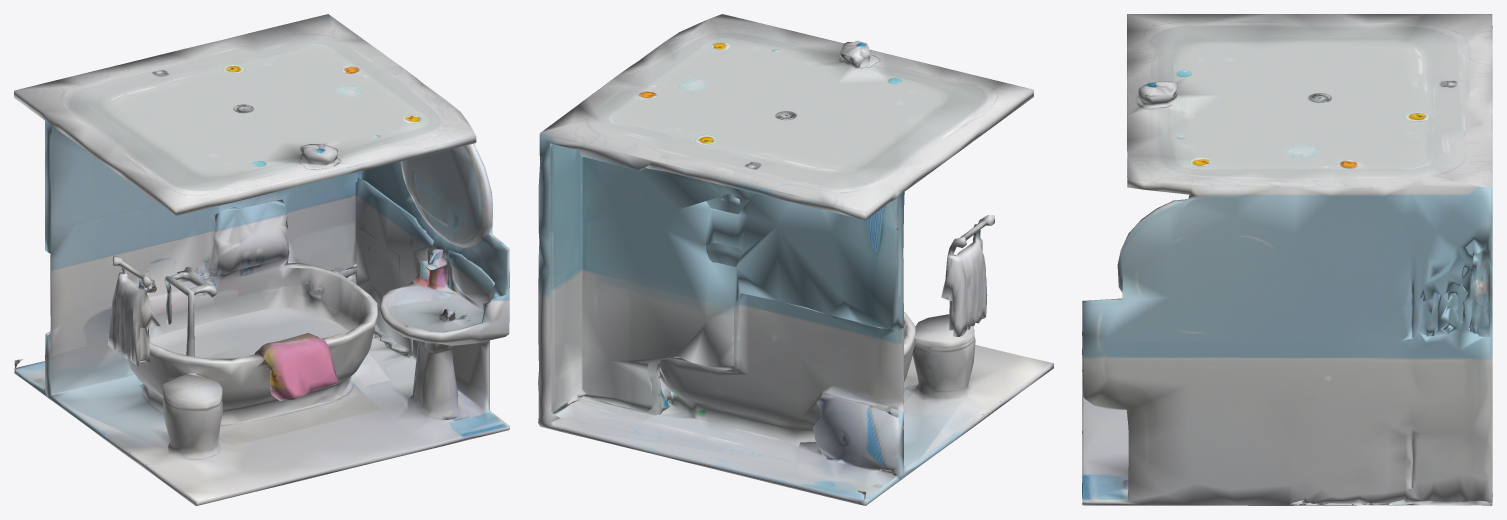
The model's file is bathroom.glb.
3 renders of one model, left to right at view 1: azimuth 30°, elevation 25°; view 2: azimuth 150°, elevation 25°; view 3: azimuth 270°, elevation 25°, orthographic. The views are drawn at different scales.
Bounding box in the file's own units: 65842 × 59203 × 65753.
Materials: 1 (1 with a texture image).
